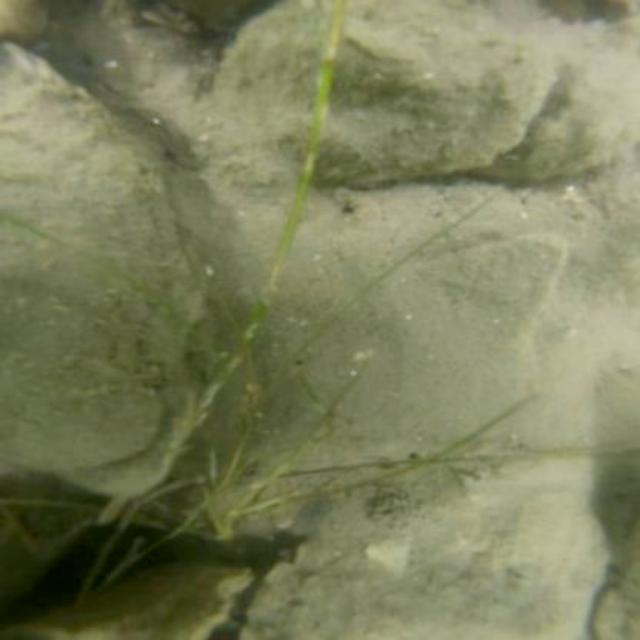Oyster-Closed: (238, 476, 615, 638), (321, 2, 543, 175), (4, 556, 253, 638), (487, 55, 632, 180)
Oyster-Open: (0, 43, 196, 488)
